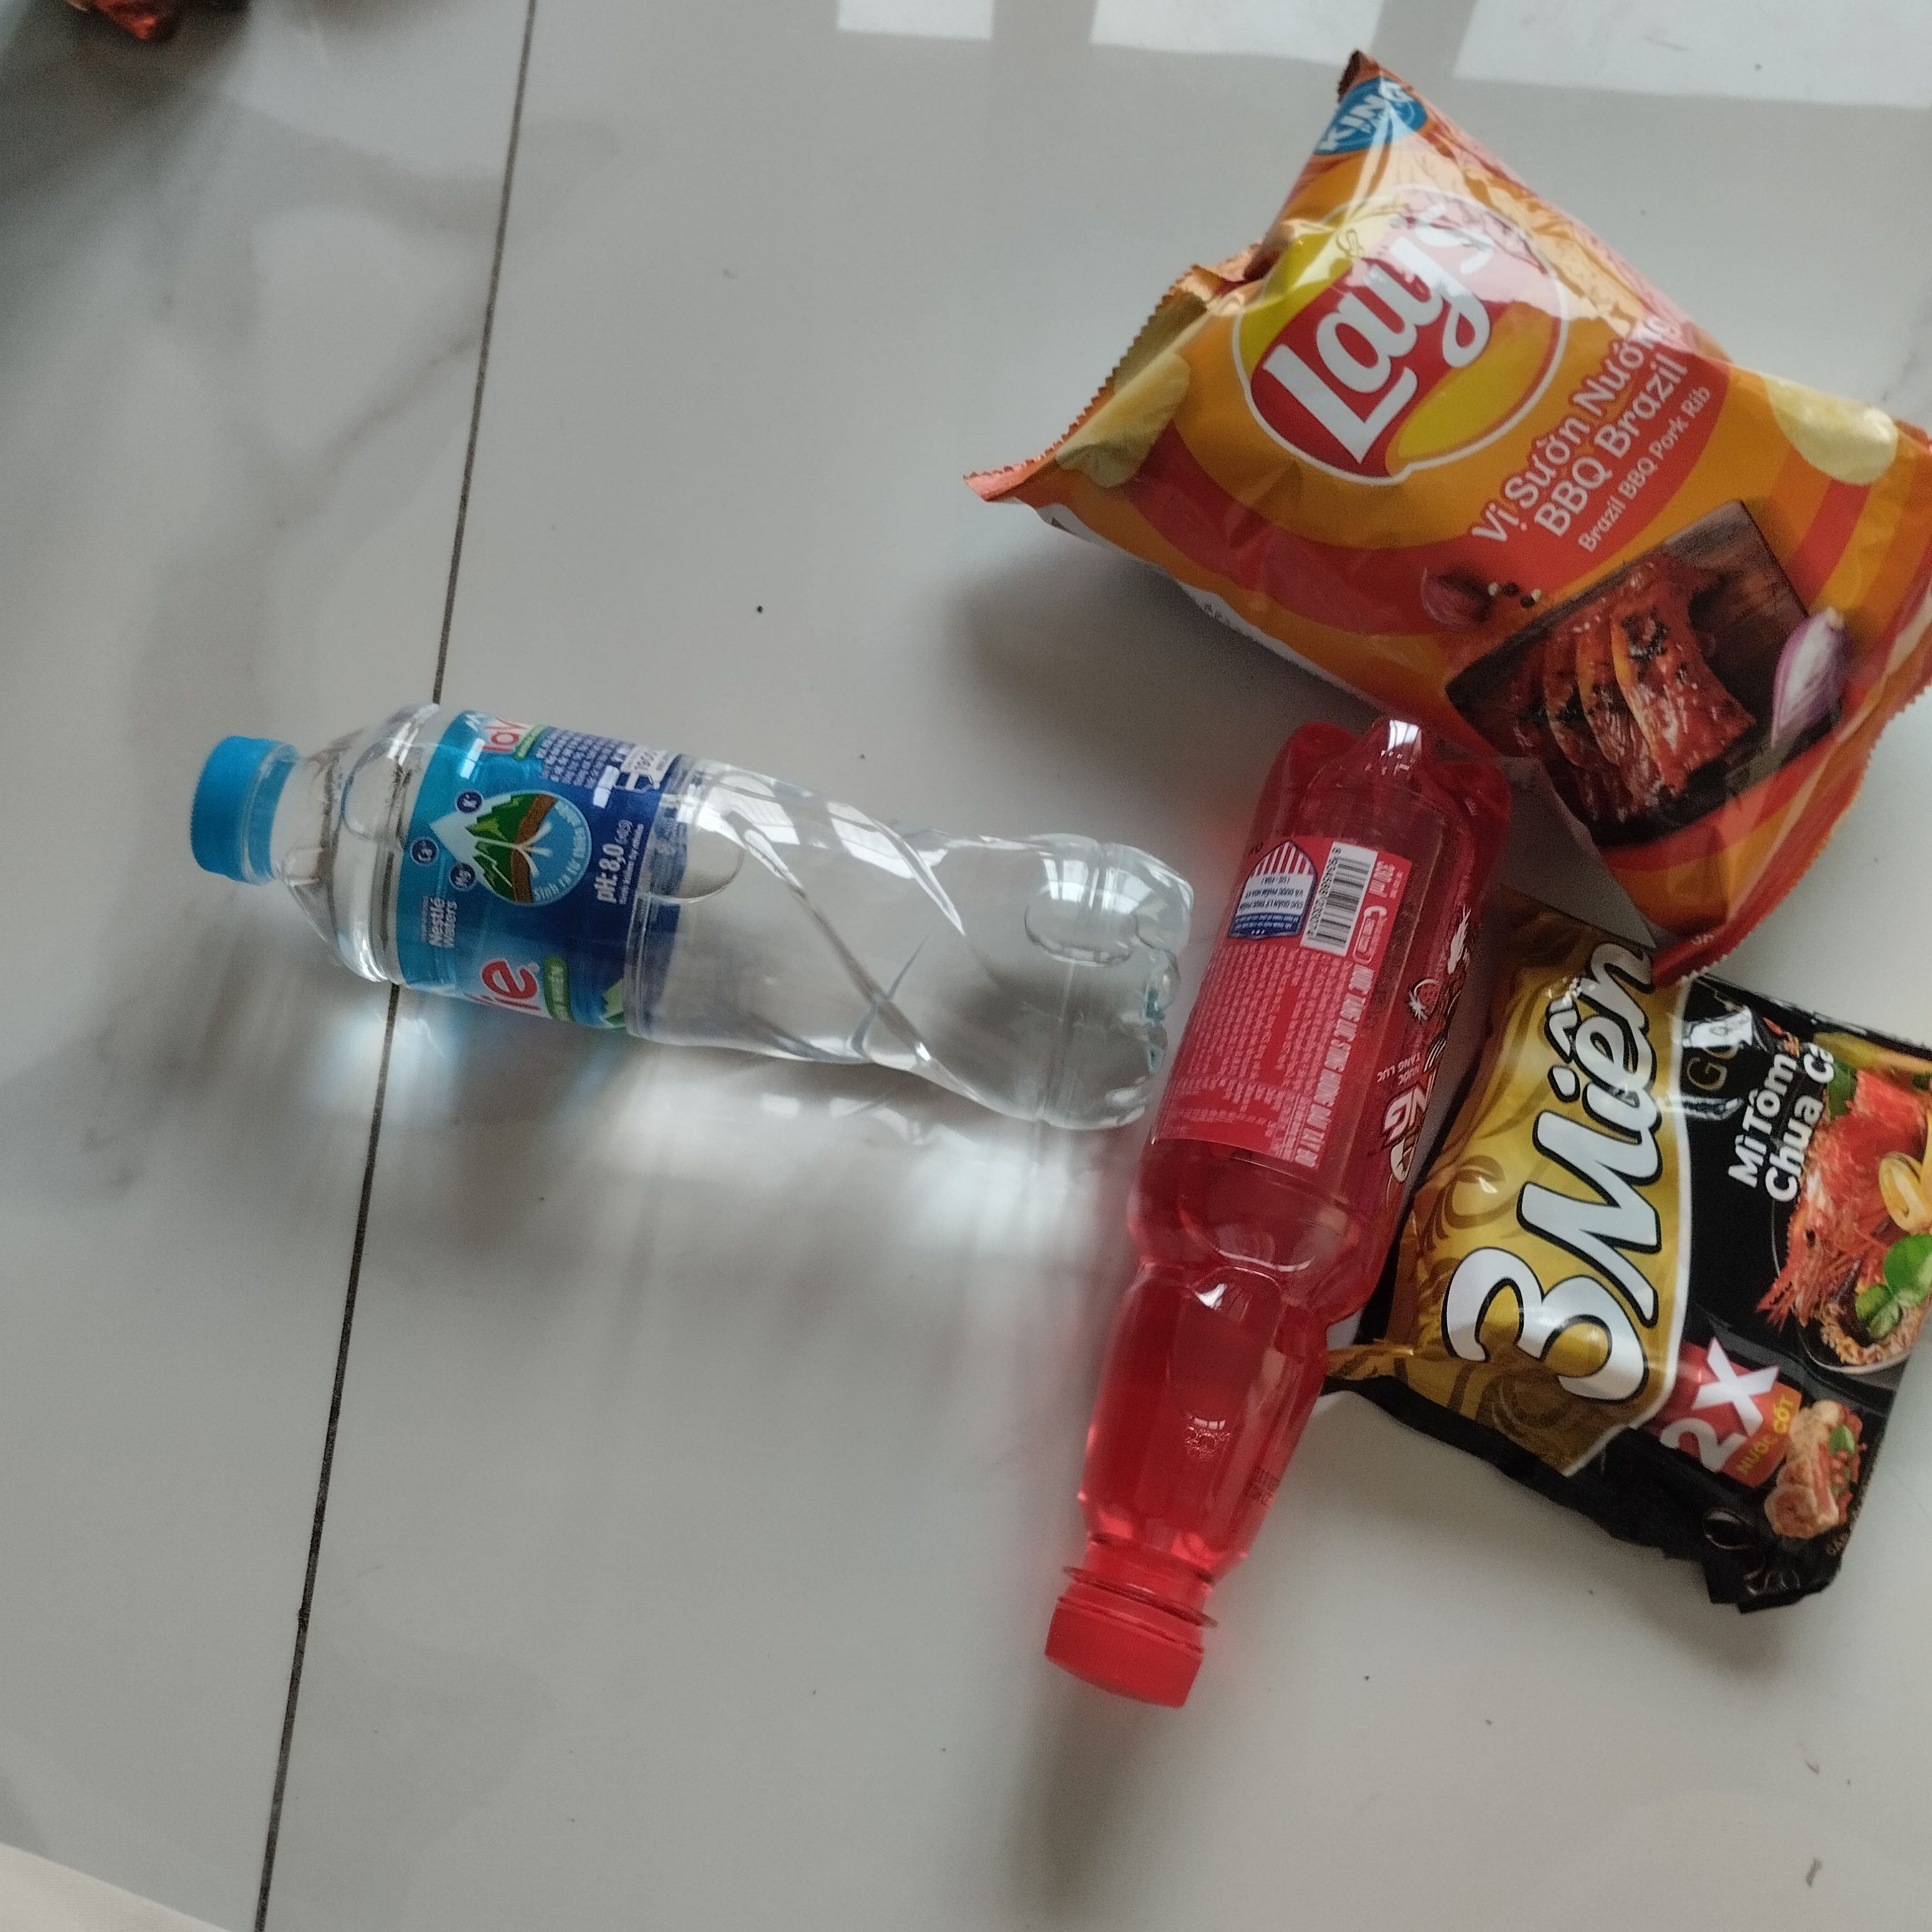3mien: (1299, 872, 1932, 1615)
Lavie: (180, 690, 1182, 1143)
Lays: (966, 41, 1932, 996)
Sting: (1039, 704, 1529, 1732)
